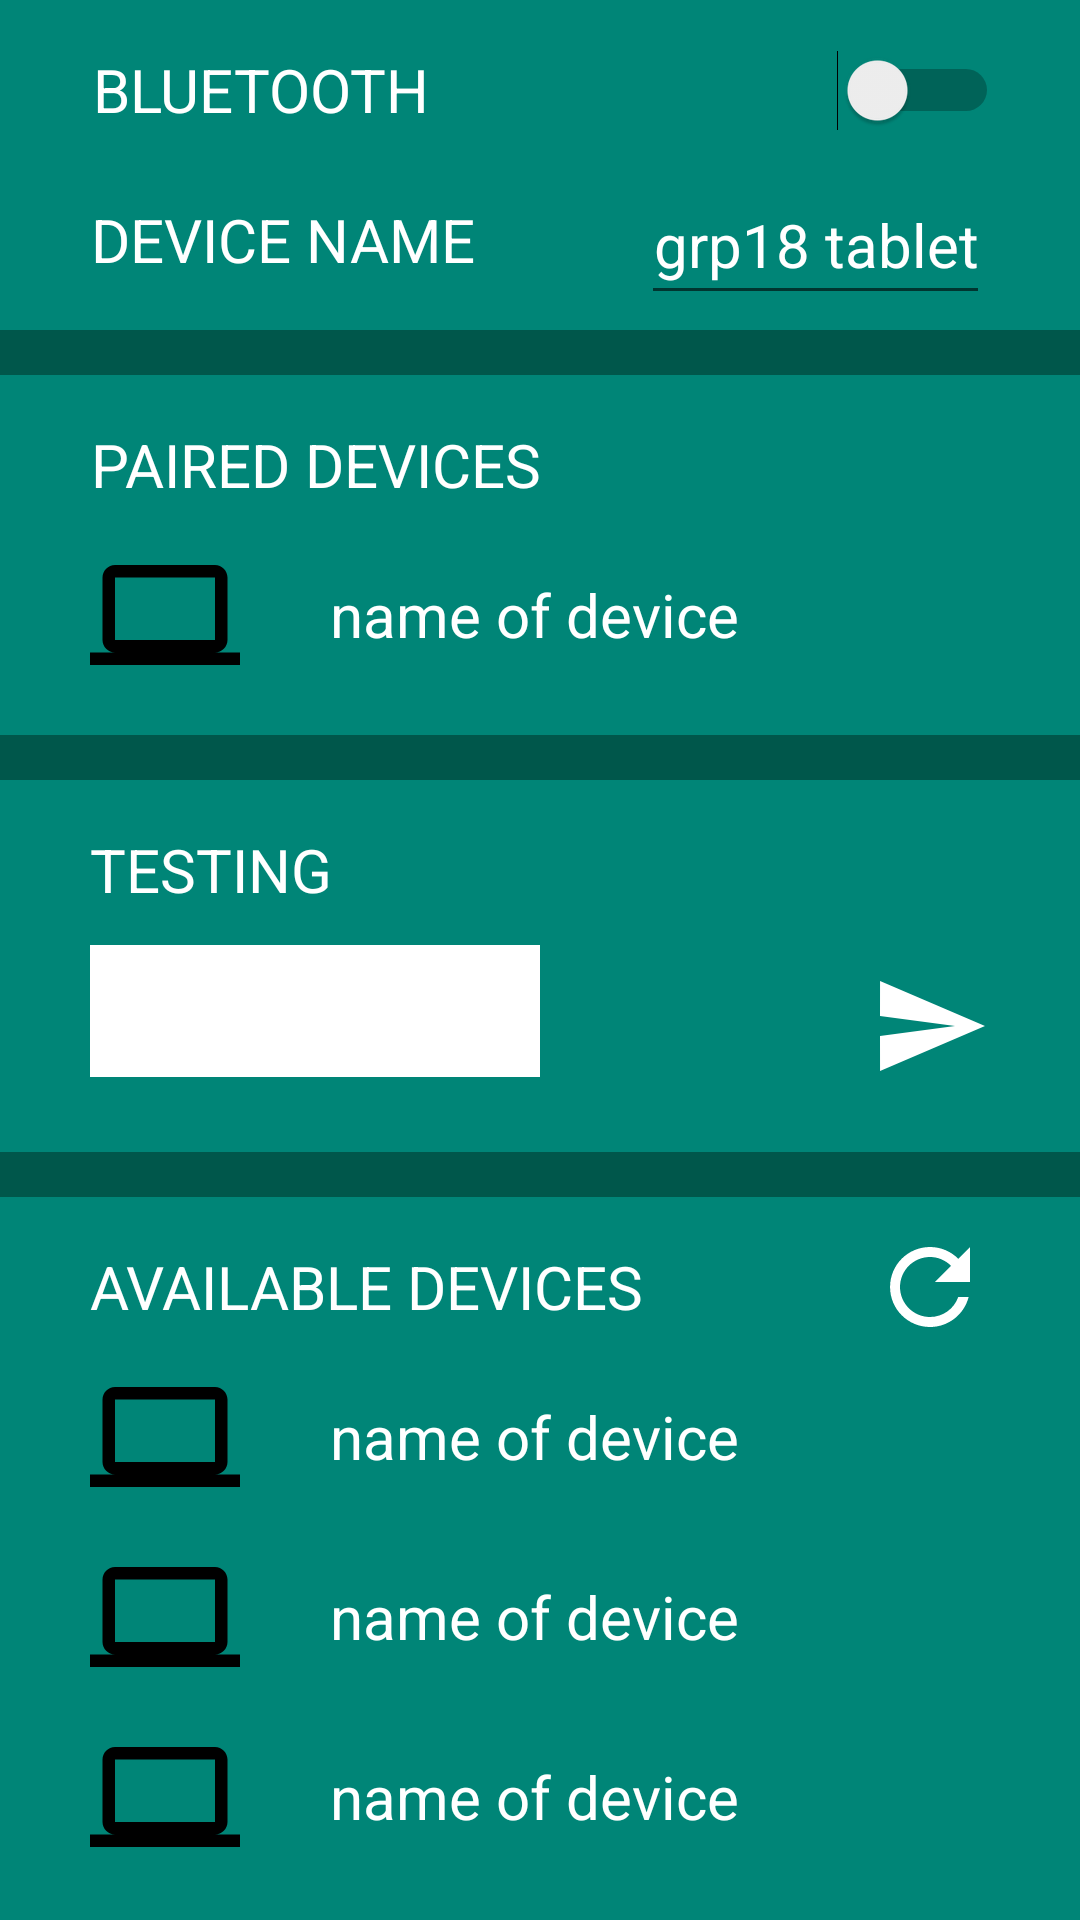

Icon bounding boxes for this 1080 × 1920 phone screenshot, format [x1,y1,x2,y2]:
laptop: [90,565,240,665], [90,1387,240,1487], [90,1567,240,1667], [90,1747,240,1847]
refresh: [890,1247,970,1327]
send: [880,981,985,1071]
